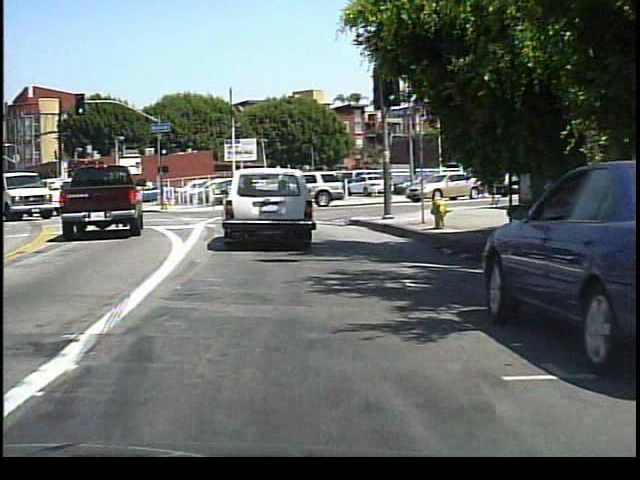person: (382, 165, 399, 203)
